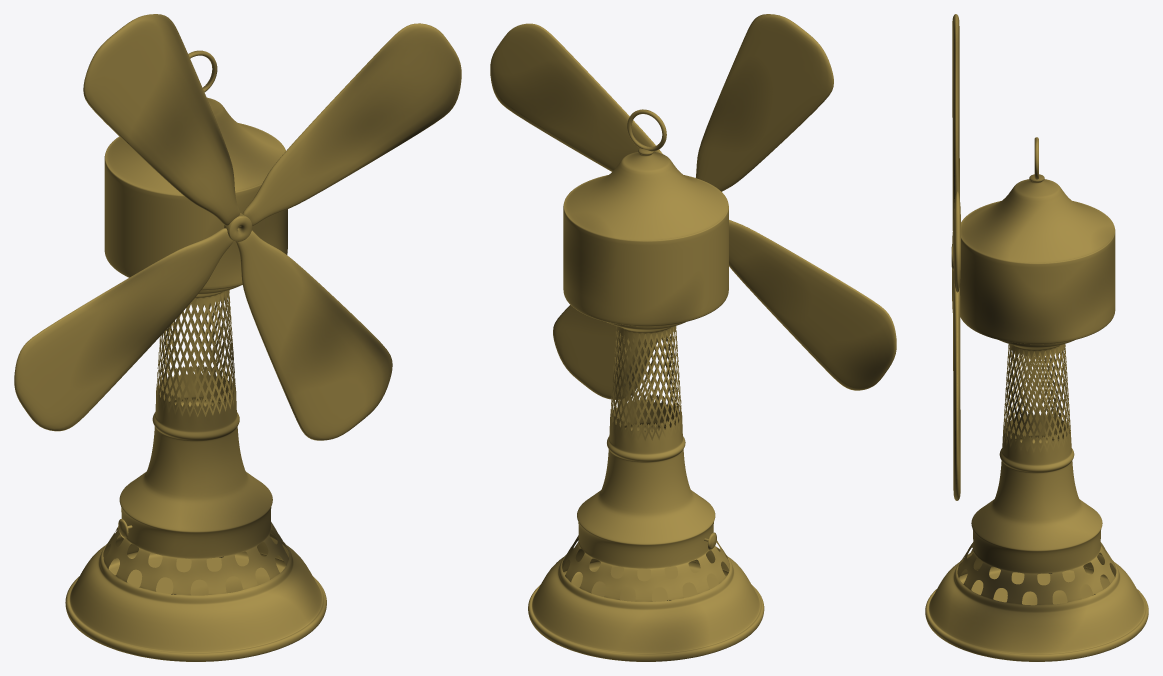
Rendered from kipas_angin.glb.
3 views of the same model, side by side, from view 1: azimuth 30°, elevation 25°; view 2: azimuth 150°, elevation 25°; view 3: azimuth 270°, elevation 25° (orthographic). The views are drawn at different scales.
Parts seen in each view (by area): view 1: Cylinder.001, Cylinder.007, Cylinder.006, Cylinder.002, Cylinder.005, Cylinder.003, Cylinder.010; view 2: Cylinder.001, Cylinder.003, Cylinder.006, Cylinder.007, Cylinder.002, Cylinder.010, Cylinder.005; view 3: Cylinder.001, Cylinder.003, Cylinder.010, Cylinder.005, Cylinder.006, Cylinder.002.
Part boxes in pixels (left/top/right/bottom): Cylinder.001: left=65, top=365, right=326, bottom=661; Cylinder.007: left=14, top=228, right=233, bottom=431; Cylinder.006: left=83, top=14, right=239, bottom=225; Cylinder.002: left=242, top=23, right=461, bottom=225; Cylinder.005: left=236, top=230, right=392, bottom=440; Cylinder.003: left=104, top=97, right=287, bottom=307; Cylinder.010: left=156, top=290, right=236, bottom=416; Cylinder.001: left=528, top=394, right=764, bottom=661; Cylinder.003: left=563, top=148, right=728, bottom=341; Cylinder.006: left=695, top=14, right=833, bottom=191; Cylinder.007: left=729, top=220, right=896, bottom=390; Cylinder.002: left=490, top=23, right=662, bottom=171; Cylinder.010: left=610, top=326, right=682, bottom=440; Cylinder.005: left=553, top=305, right=657, bottom=400; Cylinder.001: left=925, top=409, right=1148, bottom=661; Cylinder.003: left=960, top=174, right=1115, bottom=358; Cylinder.010: left=1003, top=344, right=1071, bottom=452; Cylinder.005: left=953, top=269, right=960, bottom=500; Cylinder.006: left=952, top=14, right=959, bottom=243; Cylinder.002: left=953, top=191, right=960, bottom=292.
Bounding box in the file's own units: 0.4889 × 0.6785 × 0.2468.
1 material, 1 textured.
